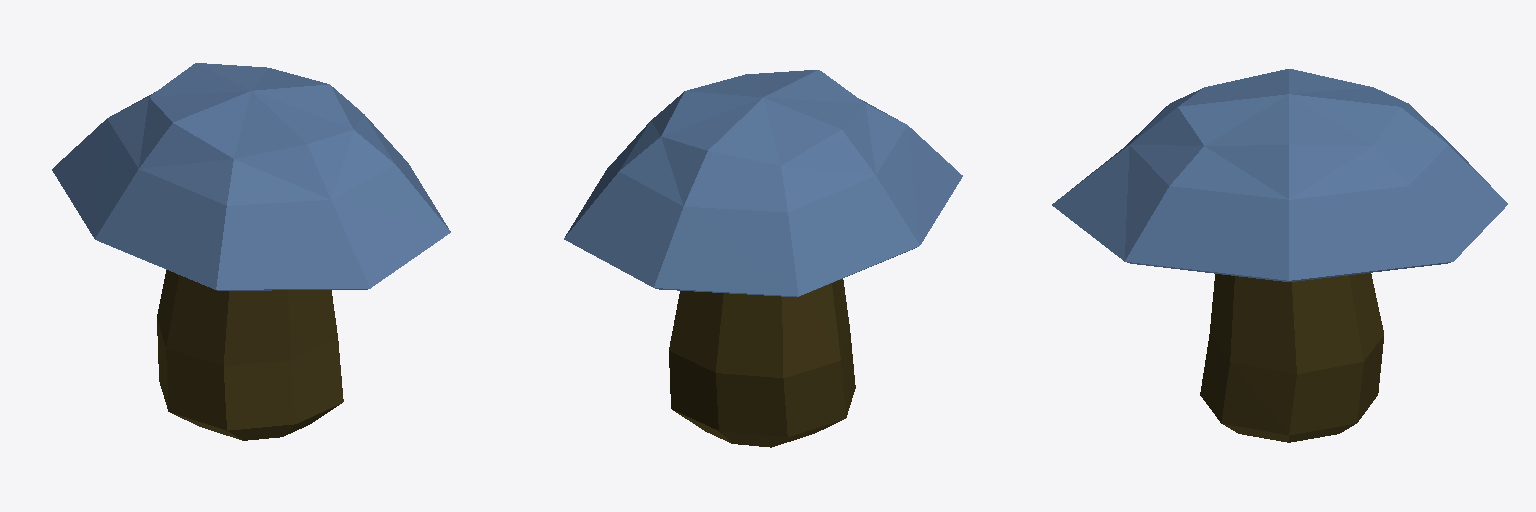
The model's file is gereb1.obj.
The picture shows the model from 3 angles: view 1: azimuth 30°, elevation 25°; view 2: azimuth 150°, elevation 25°; view 3: azimuth 270°, elevation 25°; orthographic projection.
Visible parts, largest first — view 1: Cube_Cube.001; view 2: Cube_Cube.001; view 3: Cube_Cube.001.
Part boxes in pixels (left/top/right/bottom): Cube_Cube.001: left=52, top=63, right=450, bottom=440; Cube_Cube.001: left=564, top=70, right=962, bottom=447; Cube_Cube.001: left=1052, top=69, right=1507, bottom=442.
Bounding box in the file's own units: 3.11 × 3.07 × 3.93.